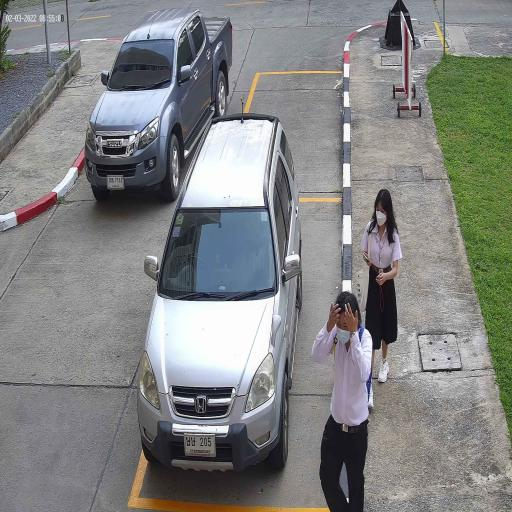car: (137, 112, 302, 476), (84, 7, 234, 199)
